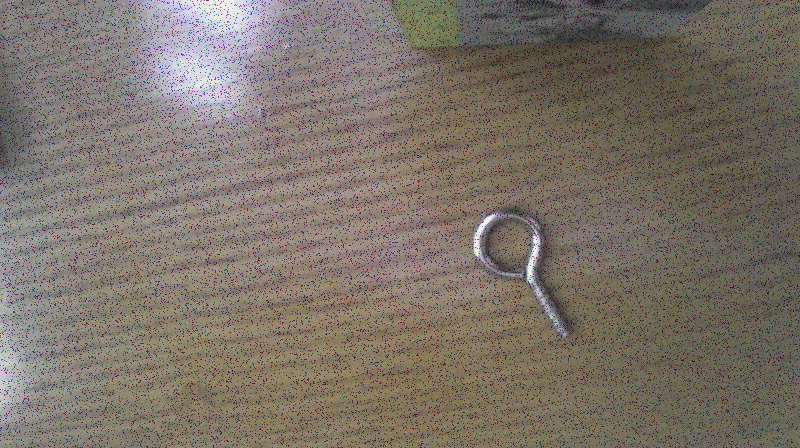O001: (468, 203, 574, 341)
